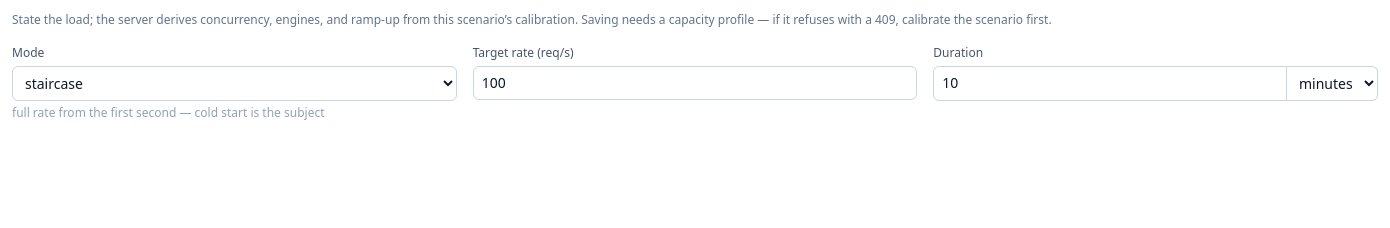
ModeForm staircase (phase 98) › hides the steps input for other modes, shows it with the default for staircase
Select "staircase" in the dropdown with test id "mode-select". click: point(234, 83)
box: [12,66,457,101]
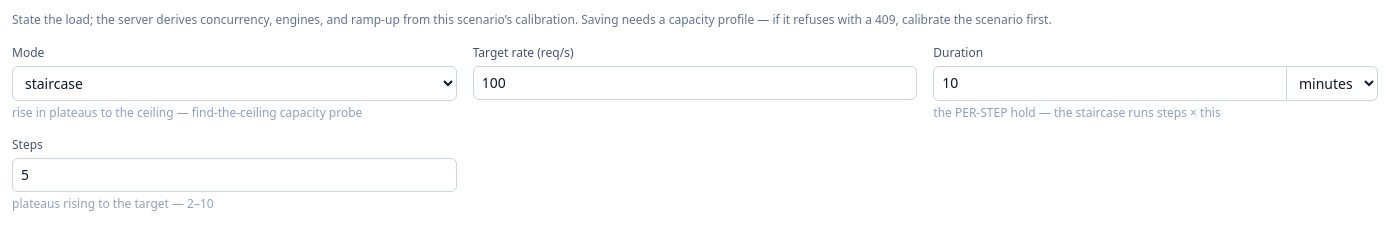
Result: the number field with test id "mode-steps" holds "5" at [12,158,457,192]
Result: the text "PER-STEP" is shown at [933,104,1221,121]
